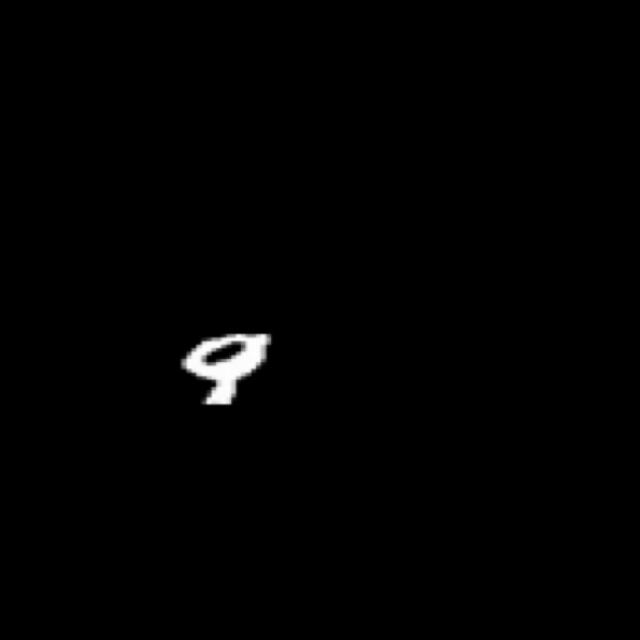nine -9-: (178, 326, 275, 418)
